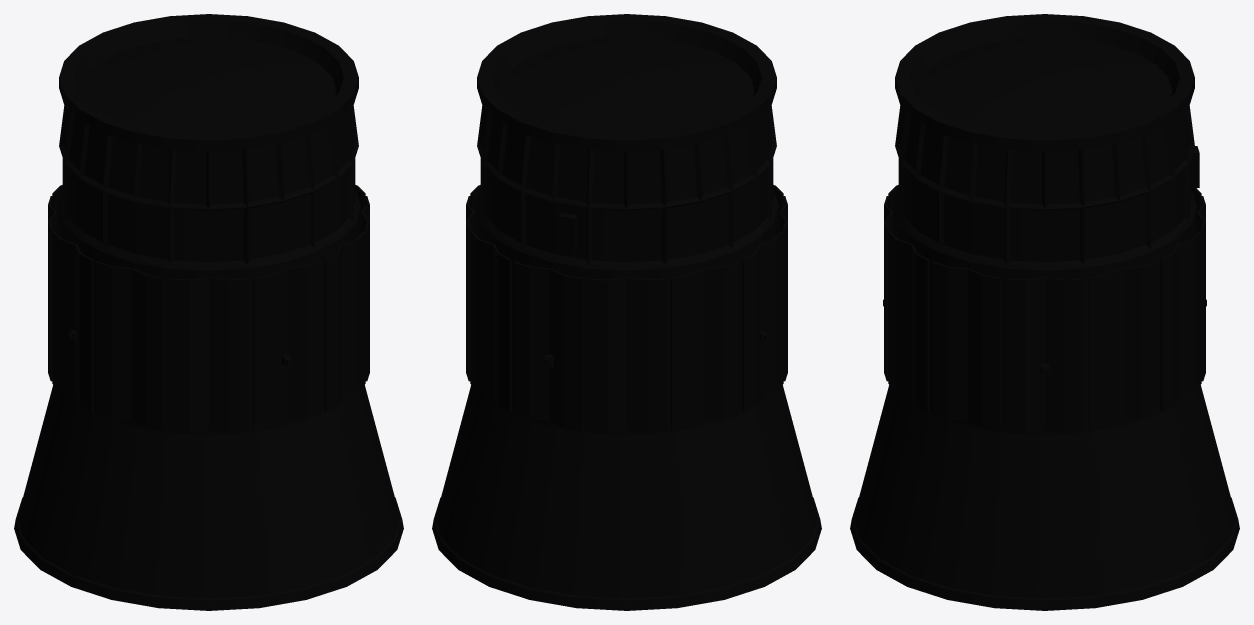
File: Tantares_Engine_2.obj
3 renders of one model, left to right at view 1: azimuth 30°, elevation 25°; view 2: azimuth 150°, elevation 25°; view 3: azimuth 270°, elevation 25°, orthographic.
Parts seen in each view (by area): view 1: Tantares_Engine_2; view 2: Tantares_Engine_2; view 3: Tantares_Engine_2.
Part boxes in pixels (bbox=[...]): Tantares_Engine_2: bbox=[14, 14, 403, 610]; Tantares_Engine_2: bbox=[432, 14, 821, 610]; Tantares_Engine_2: bbox=[850, 14, 1239, 610].
Bounding box in the file's own units: 1.62 × 2.08 × 1.62.
1 material, 1 textured.
